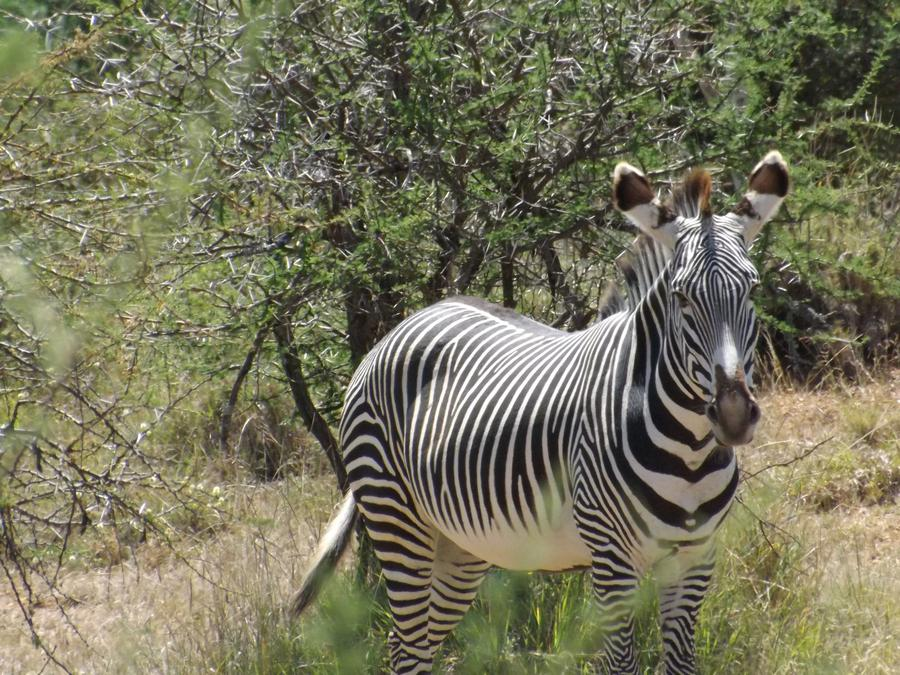zebra_grevys: (331, 265, 682, 557)
